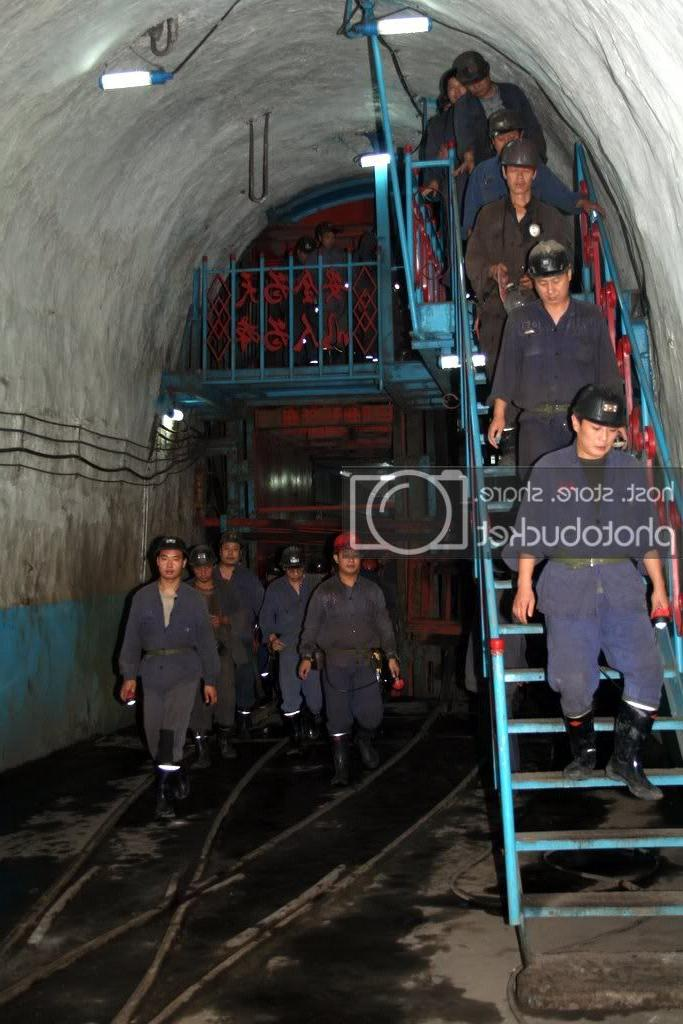helmet: (571, 379, 631, 458), (525, 235, 579, 307), (498, 137, 545, 189), (487, 106, 530, 158), (457, 47, 496, 101), (154, 535, 191, 580), (333, 529, 368, 573), (216, 528, 248, 565), (188, 543, 218, 582), (283, 544, 310, 583), (317, 219, 339, 250), (297, 233, 318, 265)
